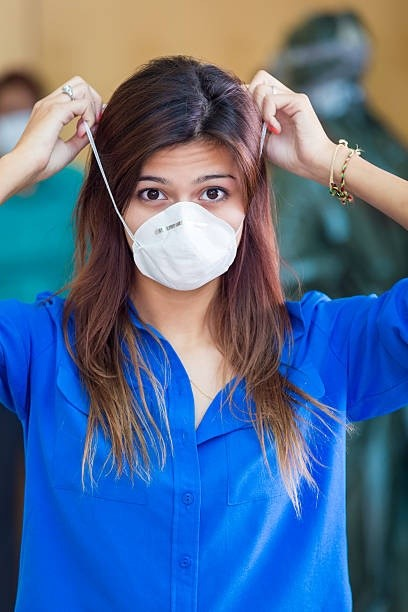face_with_mask: (112, 113, 262, 307)
